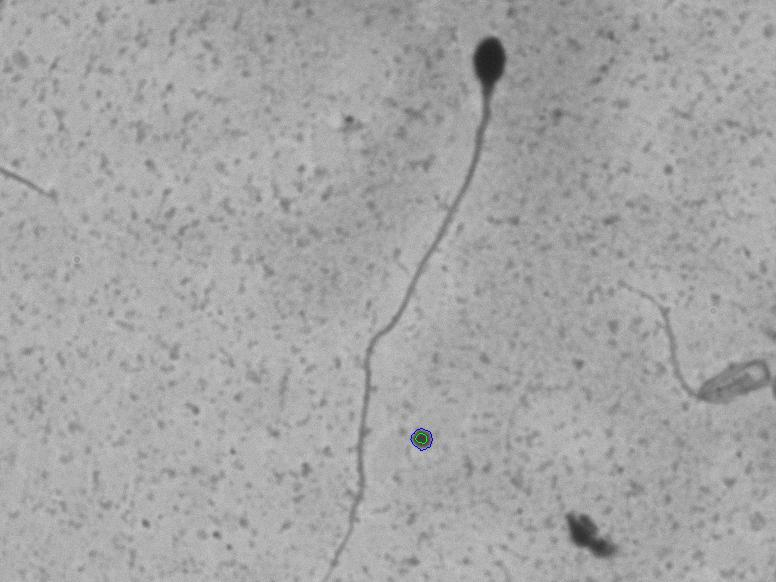Abnormal: (343, 27, 540, 558)
